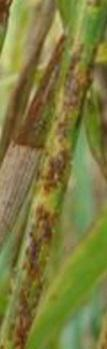Wheat: (0, 61, 90, 347)
